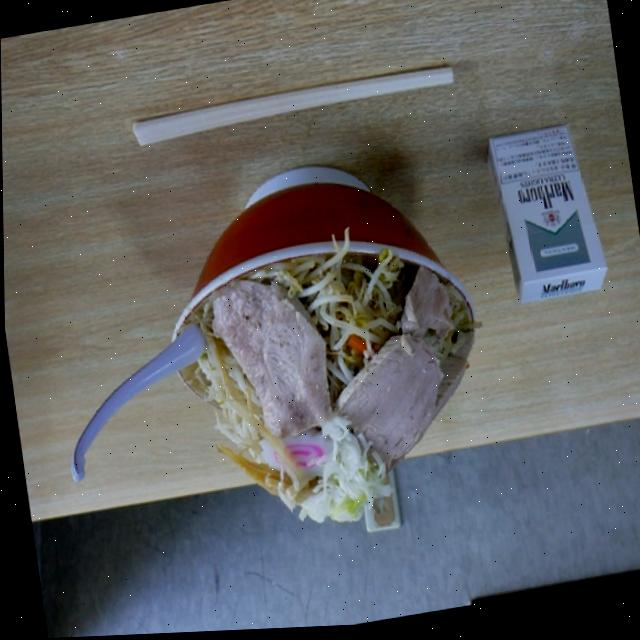面条主食: (178, 213, 488, 569)
